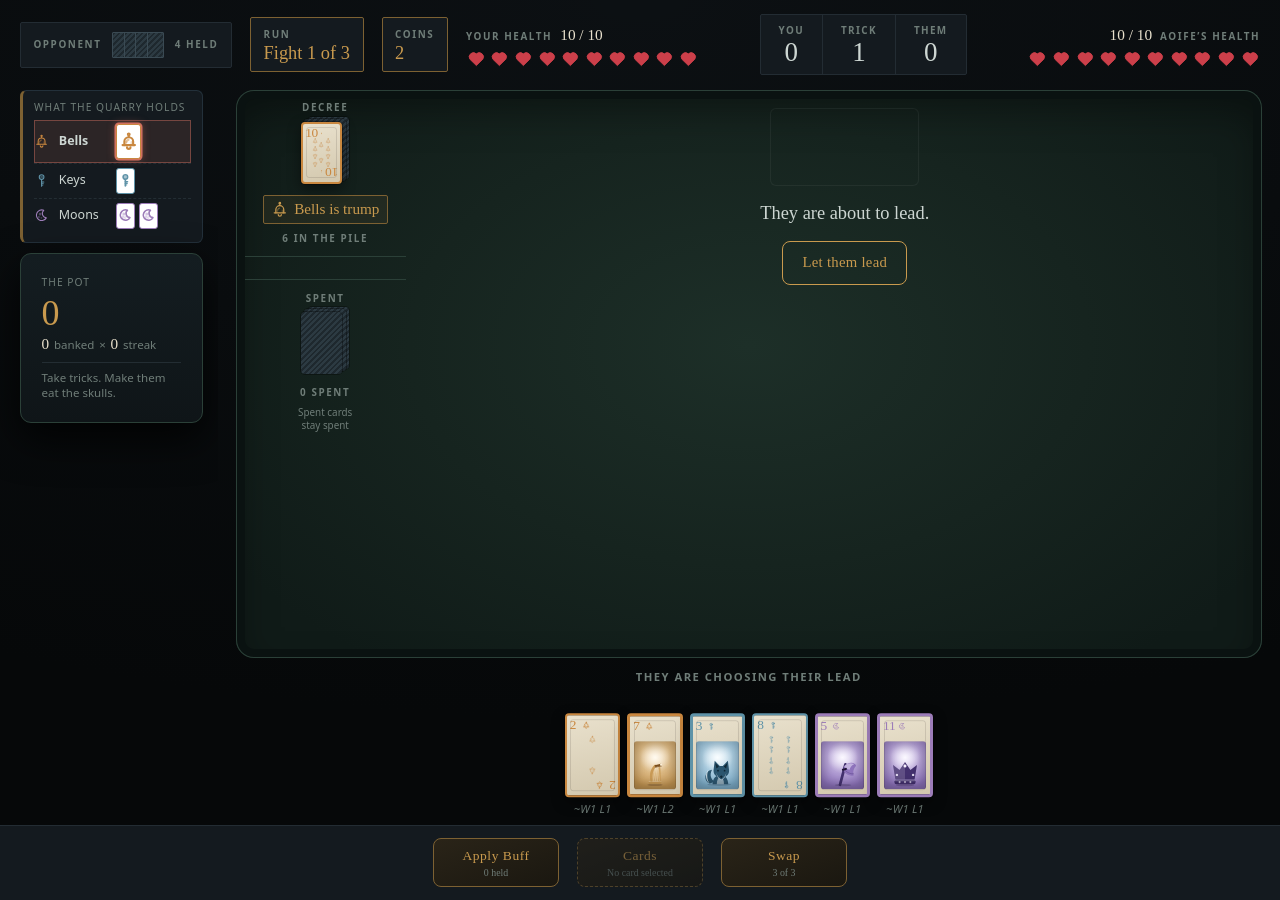
WarCouncilRound — the arming surface is reachable in the Quarry-to-lead gap (AC5, review fix) › opens on a real click of a hand-card button while canAct is false
The image size is (1280, 900).
Step 1. Click the button named "2 of Bells" → (593, 755), box [565,713,620,797]
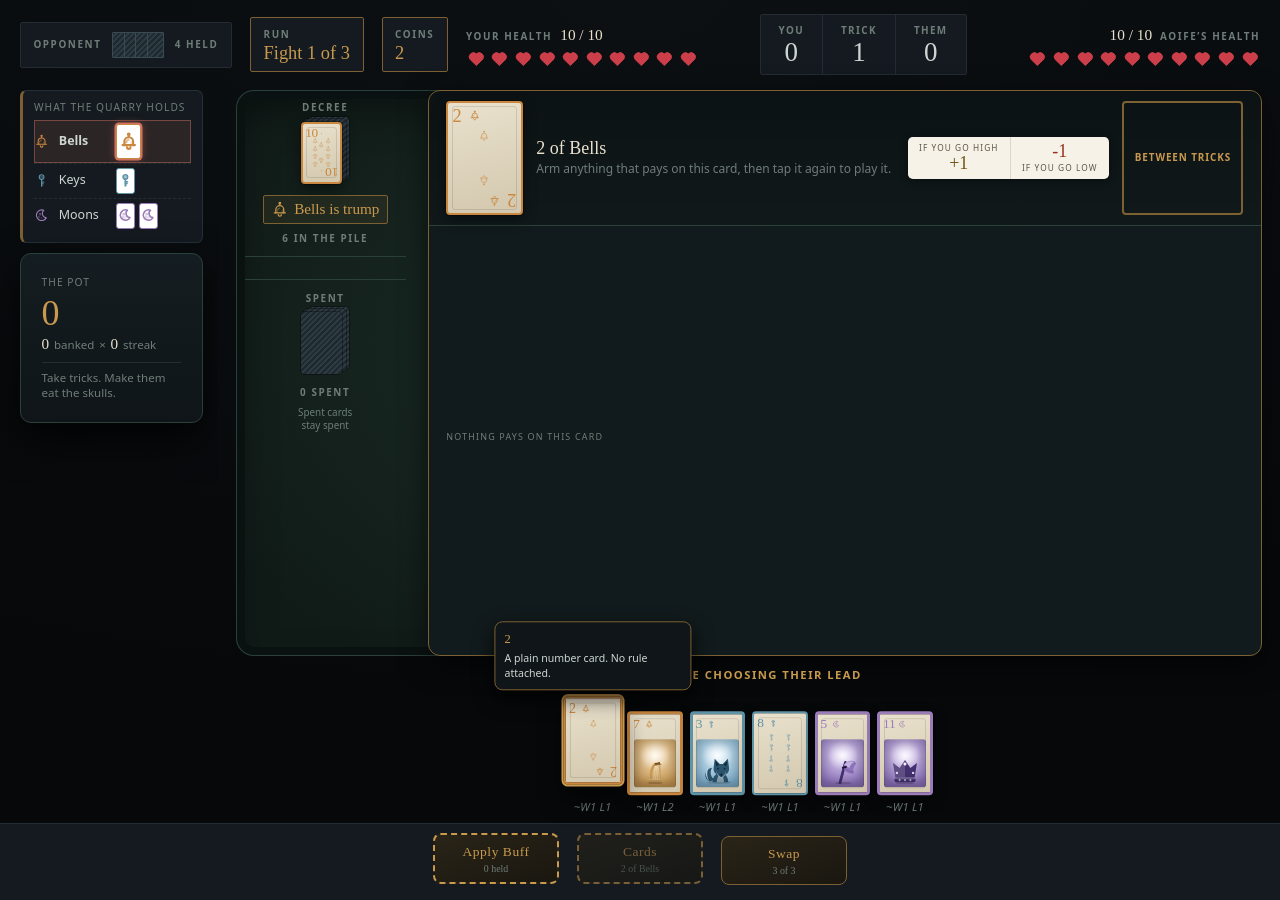
Result: the dialog named "Arm for this card" is shown at [428,90,1262,656]
